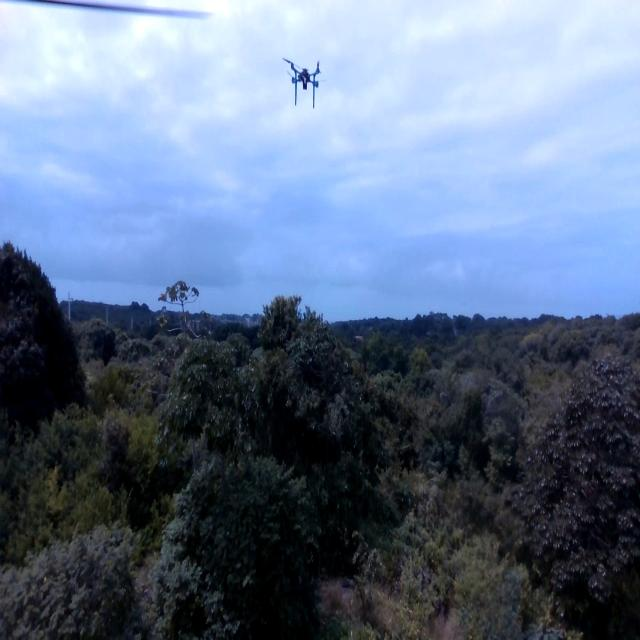-uav-: (277, 44, 331, 124)
